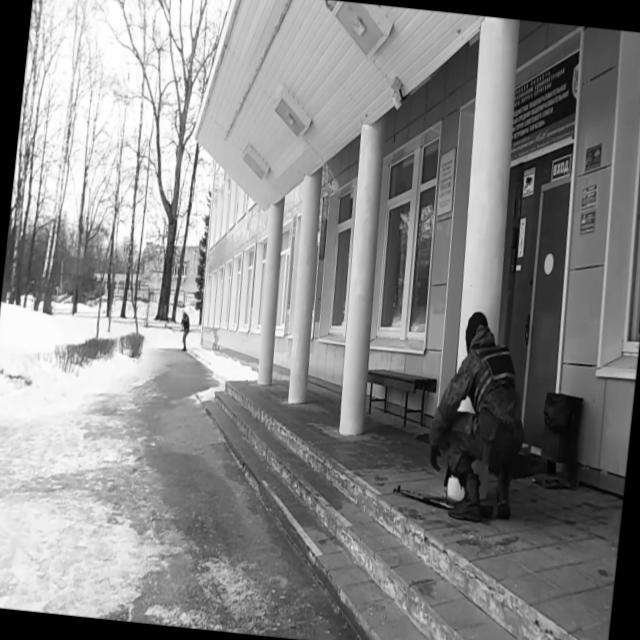gun: (390, 482, 496, 524)
person: (177, 310, 192, 354)
person with a gun: (390, 303, 536, 526)
